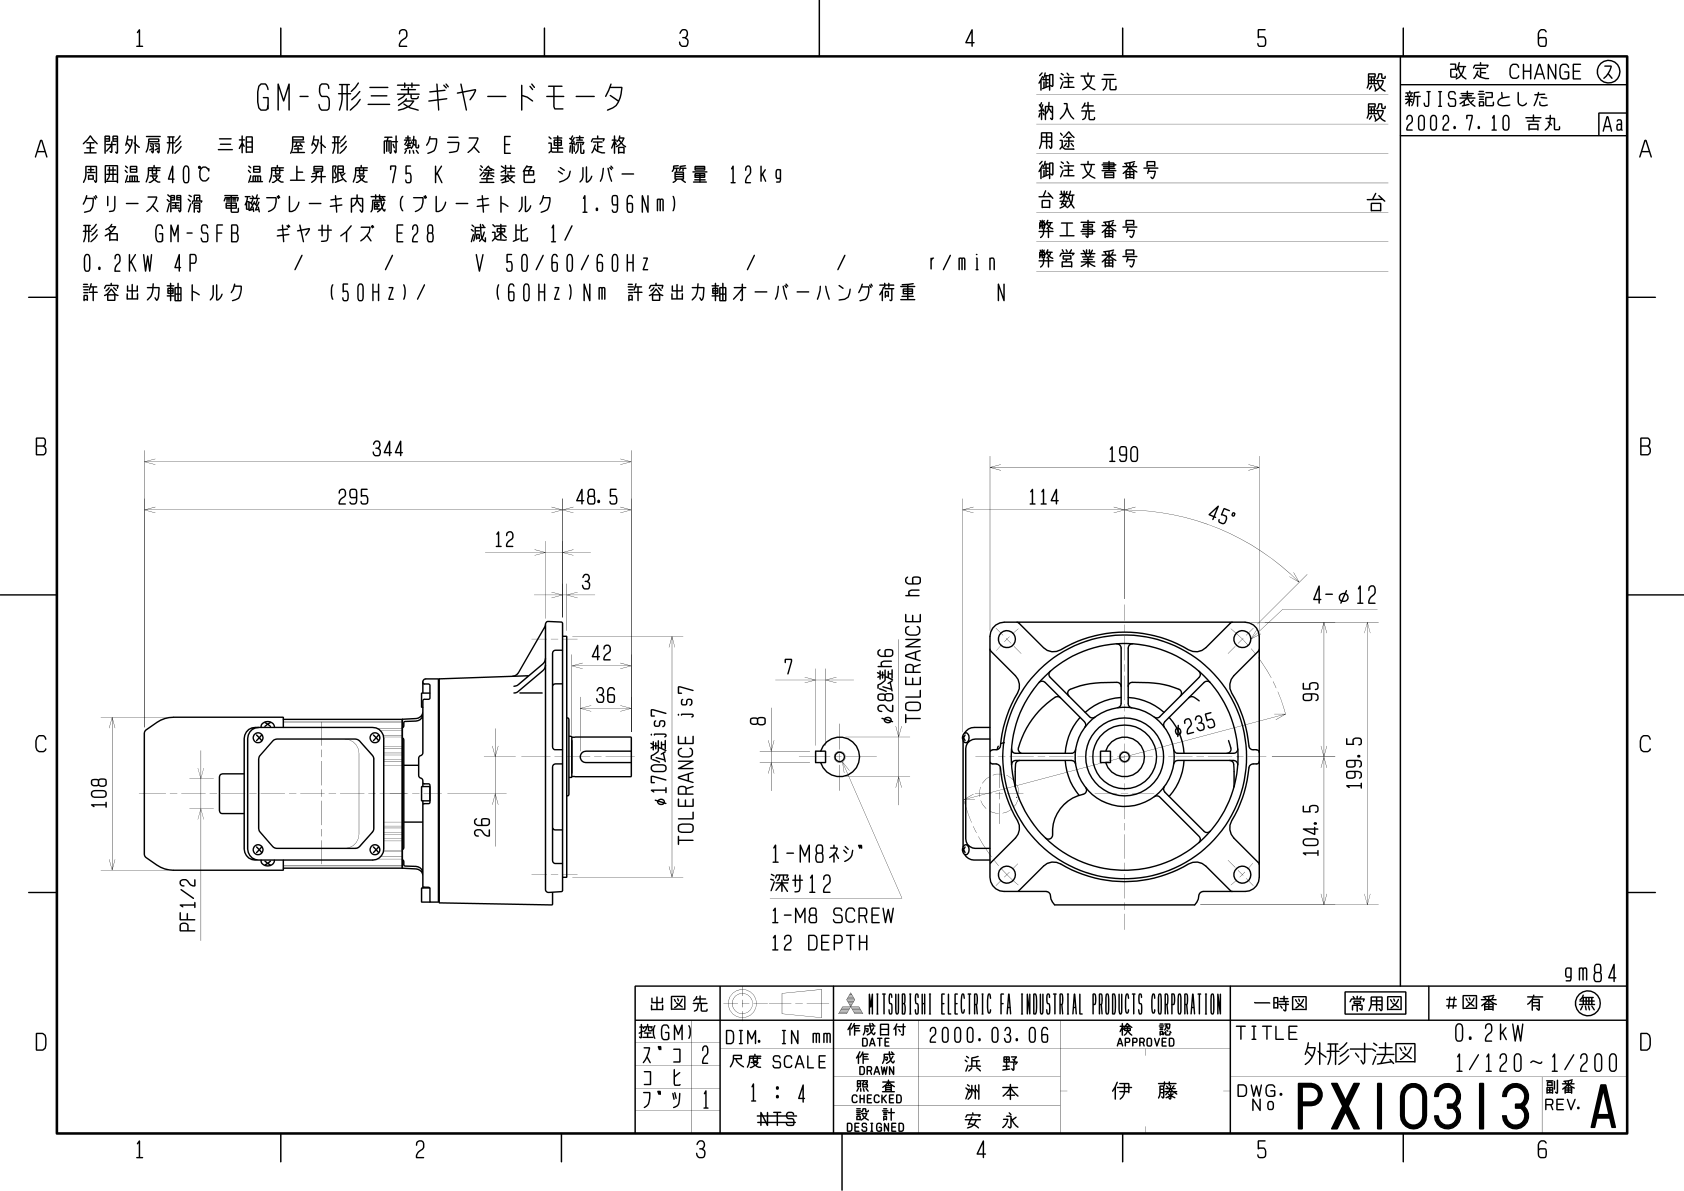GM_S_屋外＿三相_フランジ: (73, 409, 1392, 963)
